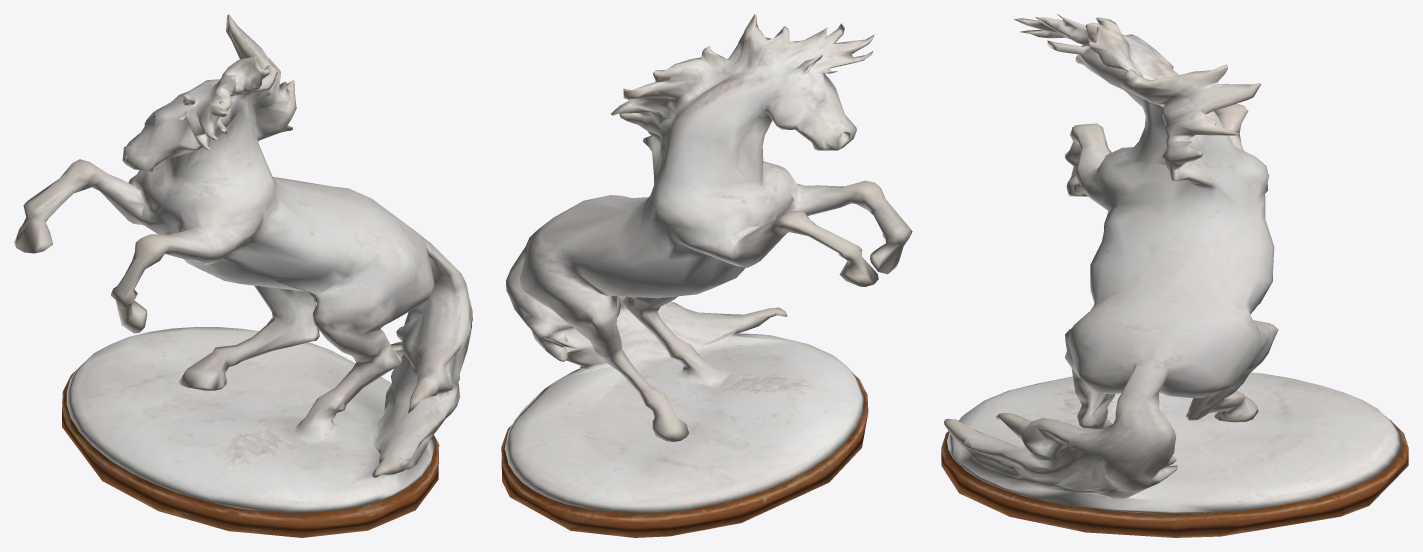
Rendered from ph-horse-statue-01.glb.
3 renders of one model, left to right at view 1: azimuth 30°, elevation 25°; view 2: azimuth 150°, elevation 25°; view 3: azimuth 270°, elevation 25°, orthographic. The views are drawn at different scales.
Parts seen in each view (by area): view 1: horse_statue_01; view 2: horse_statue_01; view 3: horse_statue_01.
Part boxes in pixels (x1=…): horse_statue_01: x1=14, y1=14, x2=472, y2=537; horse_statue_01: x1=501, y1=14, x2=912, y2=537; horse_statue_01: x1=941, y1=14, x2=1408, y2=537.
Bounding box in the file's own units: 1 × 0.9995 × 1.
Materials: 1 (1 with a texture image).
